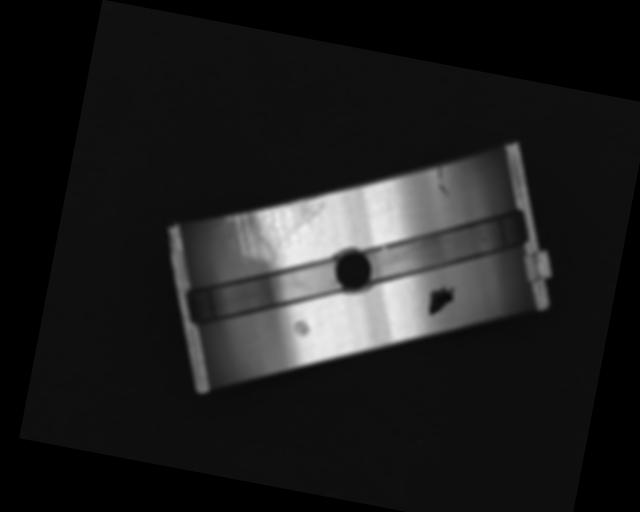blot: (425, 280, 457, 319)
bruise: (292, 317, 312, 337)
gap: (362, 187, 532, 311), (181, 234, 347, 350)
hole: (330, 243, 379, 297)
nick: (379, 189, 398, 225), (433, 163, 454, 195)
scratch: (215, 177, 329, 272)
